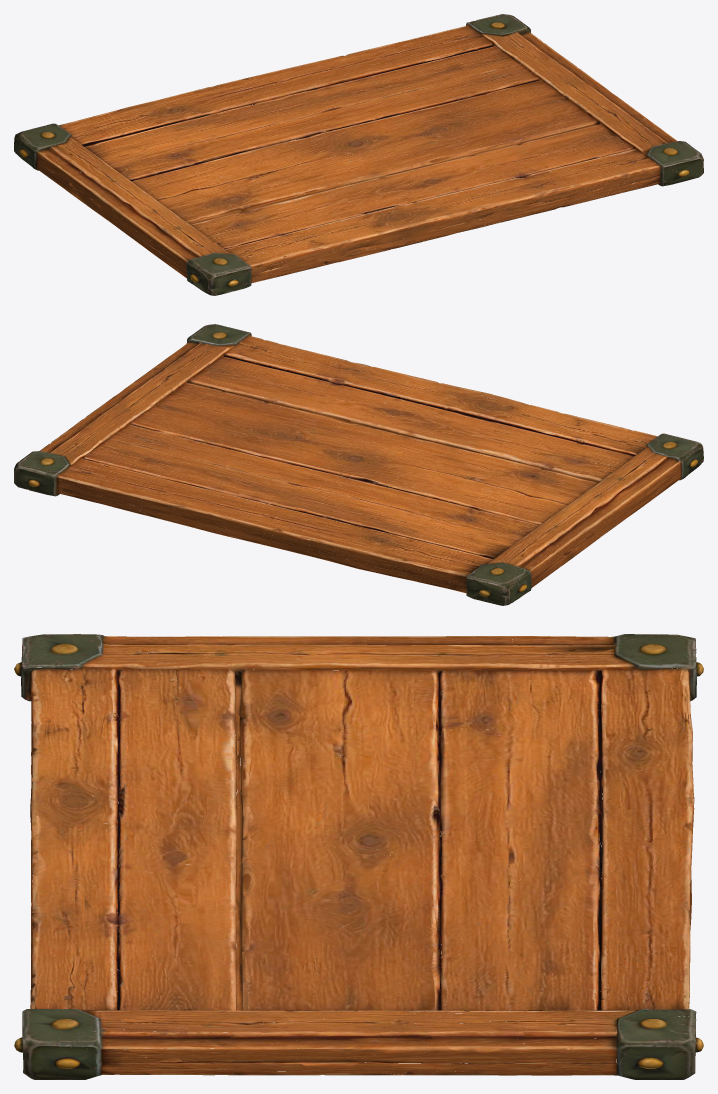
Rendered from crate_lid.glb.
3 views of the same model, one above another, from view 1: azimuth 30°, elevation 25°; view 2: azimuth 150°, elevation 25°; view 3: azimuth 270°, elevation 25° (orthographic). The views are drawn at different scales.
Visible parts, largest first — view 1: crate_lid; view 2: crate_lid; view 3: crate_lid.
Part boxes in pixels (x1,y1,x2,y2): crate_lid: (14,14,703,295); crate_lid: (14,324,703,605); crate_lid: (14,634,703,1079).
Size of the model in its own units: 0.9161 by 0.0452 by 0.6364.
1 material, 1 textured.
